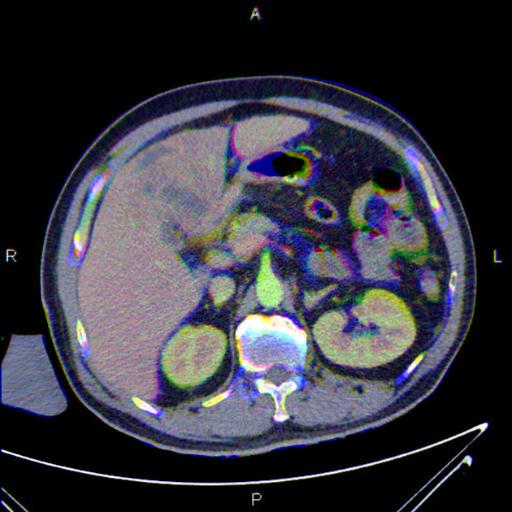Abscess: (131, 142, 220, 225)
